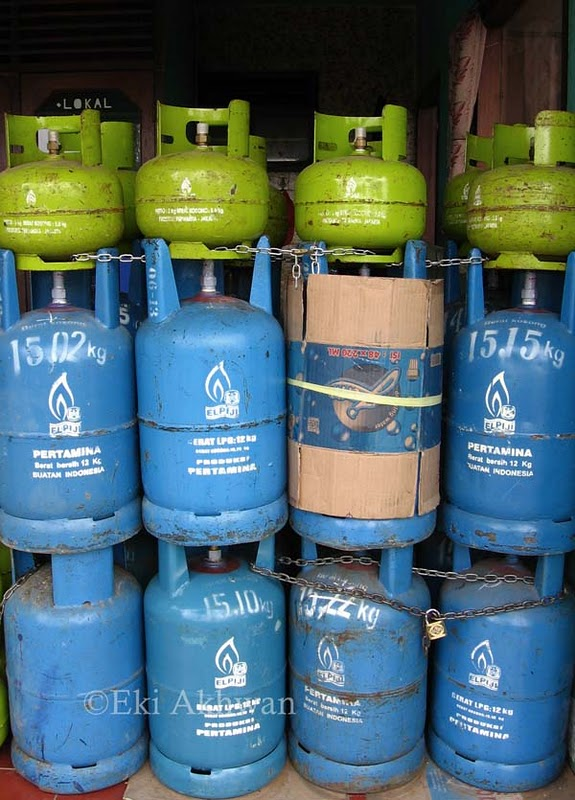blue_gas: (132, 235, 291, 547), (287, 247, 438, 549), (1, 244, 138, 555), (443, 253, 575, 556), (146, 547, 291, 797), (290, 536, 427, 798), (432, 551, 575, 787), (4, 552, 142, 796)
gas_ijo: (296, 106, 432, 265), (135, 102, 271, 258), (1, 110, 136, 266), (455, 113, 575, 264)
